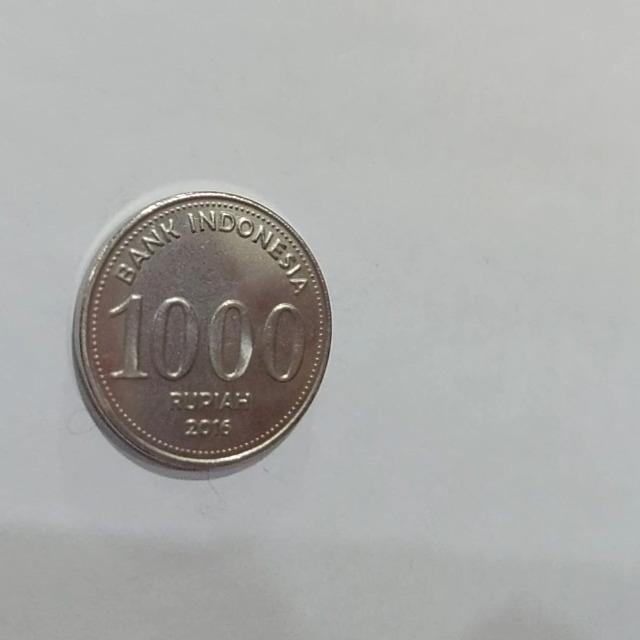Rp100: (70, 188, 333, 479)
